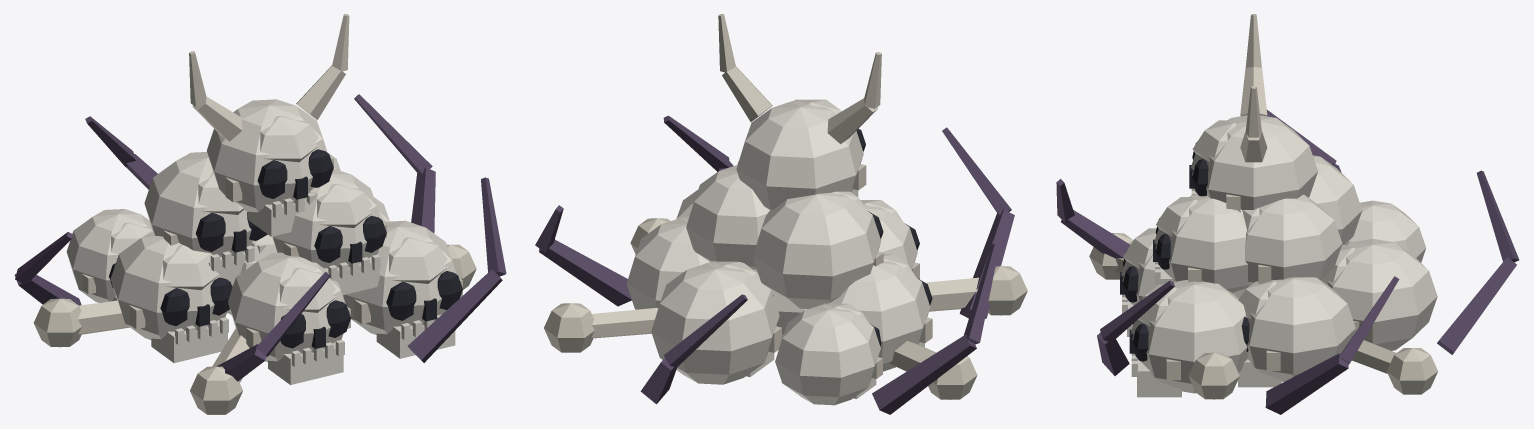
File: skull_pile.glb
3 views of the same model, side by side, from view 1: azimuth 30°, elevation 25°; view 2: azimuth 150°, elevation 25°; view 3: azimuth 270°, elevation 25° (orthographic). The views are drawn at different scales.
Visible parts, largest first — view 1: skull_pile; view 2: skull_pile; view 3: skull_pile.
Boxes of the visible parts, x1,y1,x2,y2 form: skull_pile: (14,14,506,414); skull_pile: (535,14,1027,414); skull_pile: (1056,14,1519,414).
Bounding box in the file's own units: 2.39 × 1.62 × 2.34.
